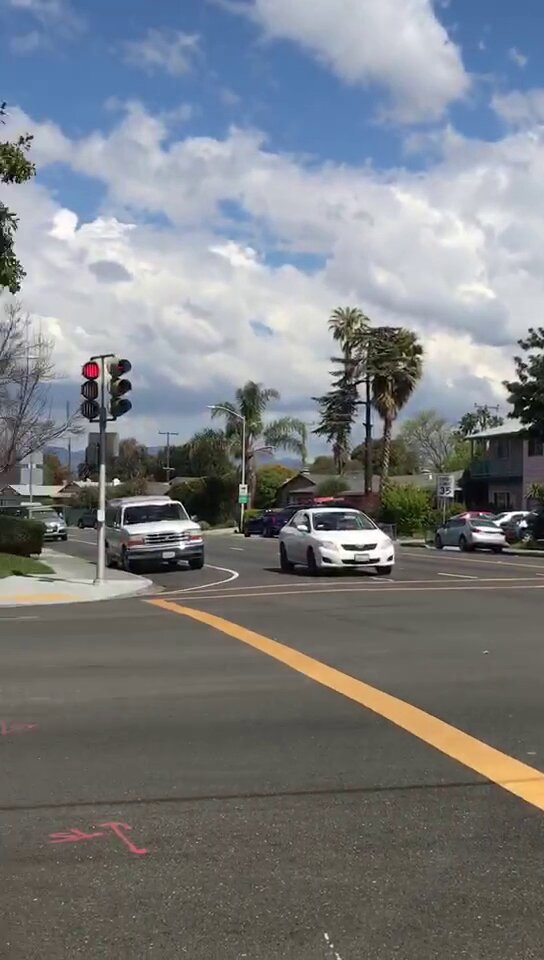red_light: (83, 361, 100, 423)
